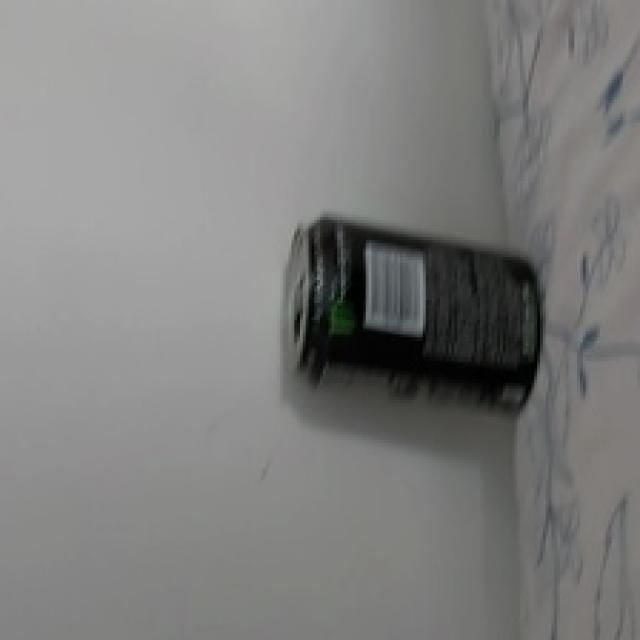recyclable: (283, 214, 544, 418)
